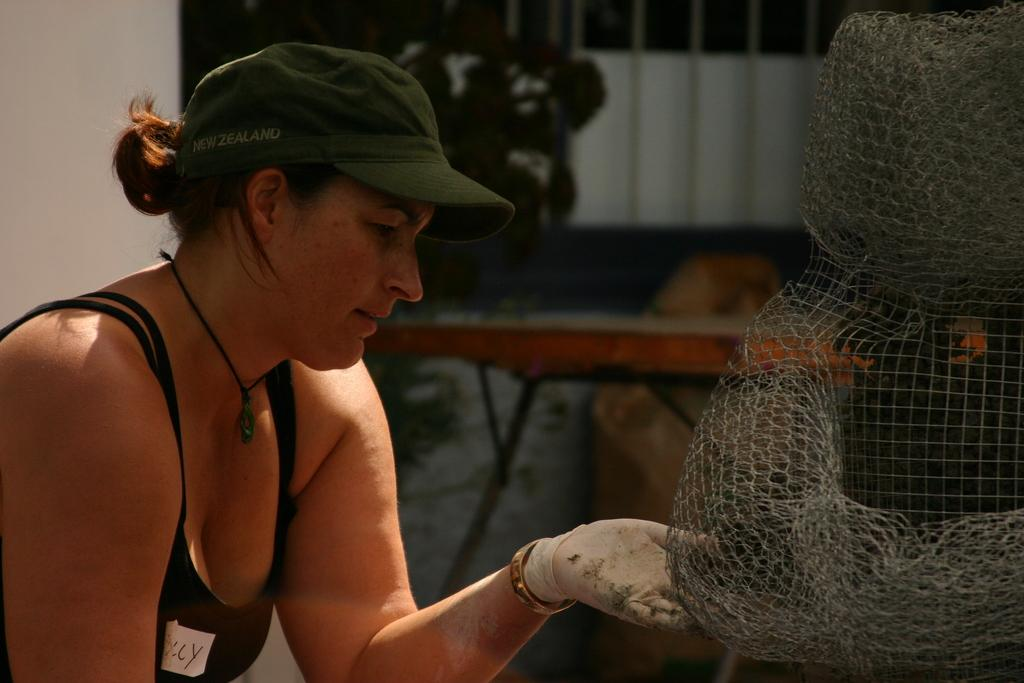Hat: (185, 39, 513, 243)
